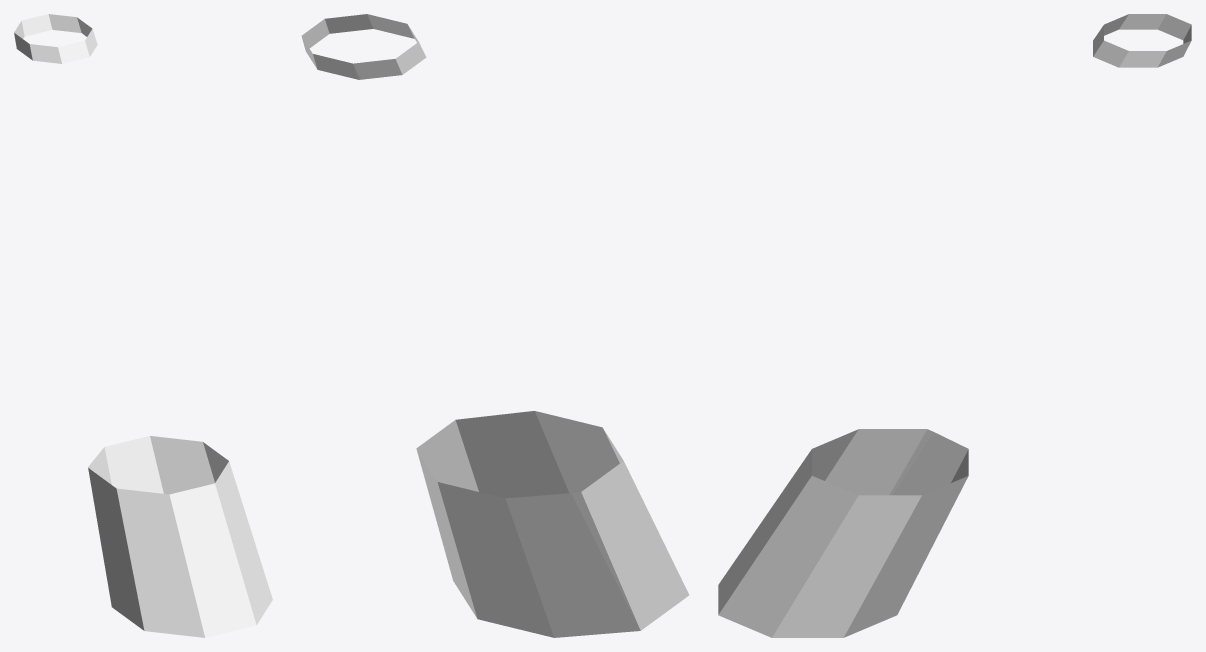
The model's file is c1_hikari.glb.
The picture shows the model from 3 angles, left to right: view 1: azimuth 30°, elevation 25°; view 2: azimuth 150°, elevation 25°; view 3: azimuth 270°, elevation 25°; orthographic projection. The views are drawn at different scales.
Visible parts, largest first — view 1: c1_hikari; view 2: c1_hikari; view 3: c1_hikari.
Part boxes in pixels (box(x1,y1,x2,y2)): c1_hikari: box(14, 14, 272, 637); c1_hikari: box(301, 14, 689, 637); c1_hikari: box(718, 14, 1191, 637).
Size of the model in its own units: 1.95 by 6.84 by 5.17.
1 material, 1 textured.
